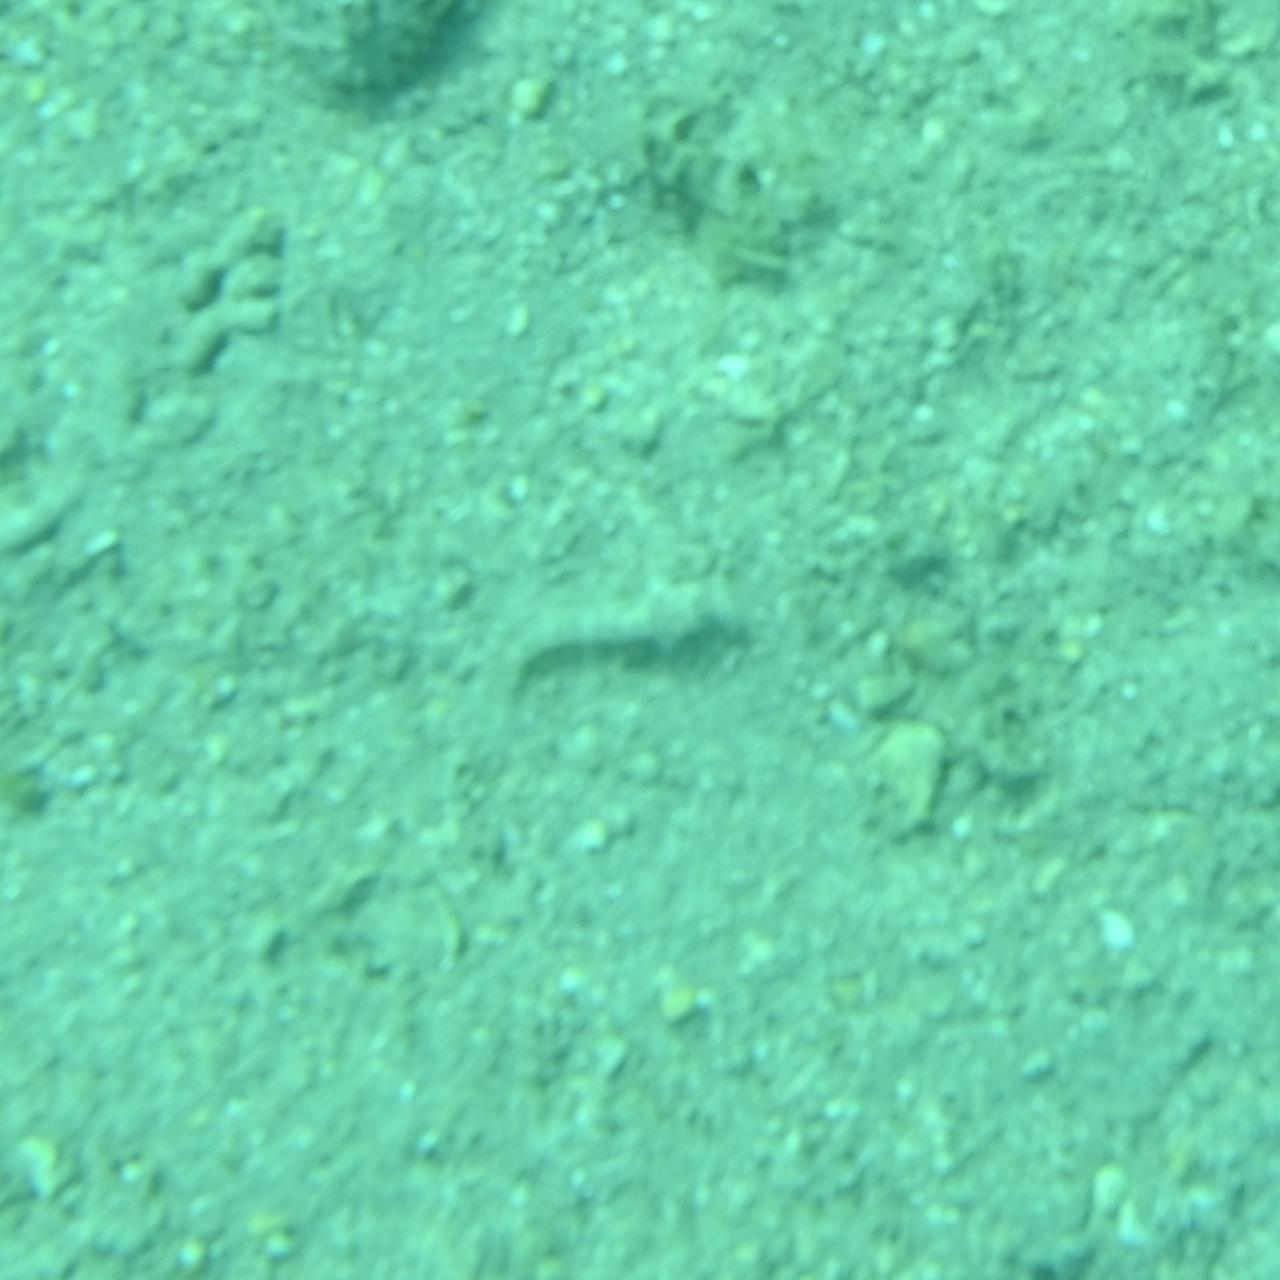Gobius sp: (468, 546, 812, 734)
